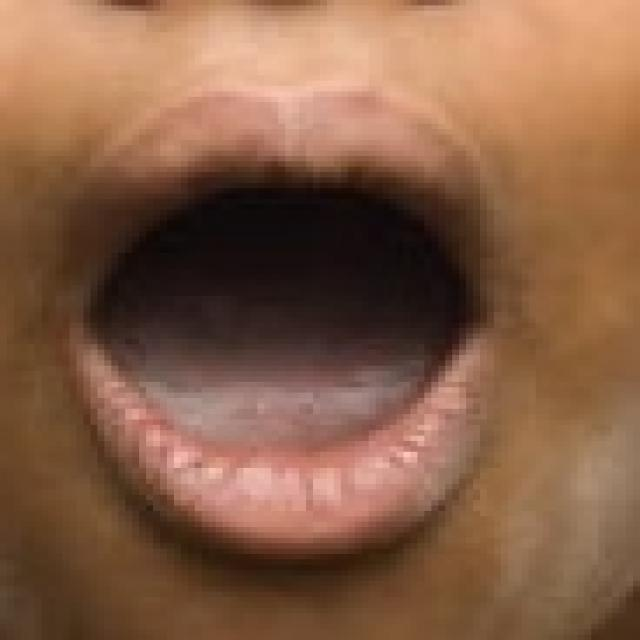open-mouth: (55, 86, 508, 565)
